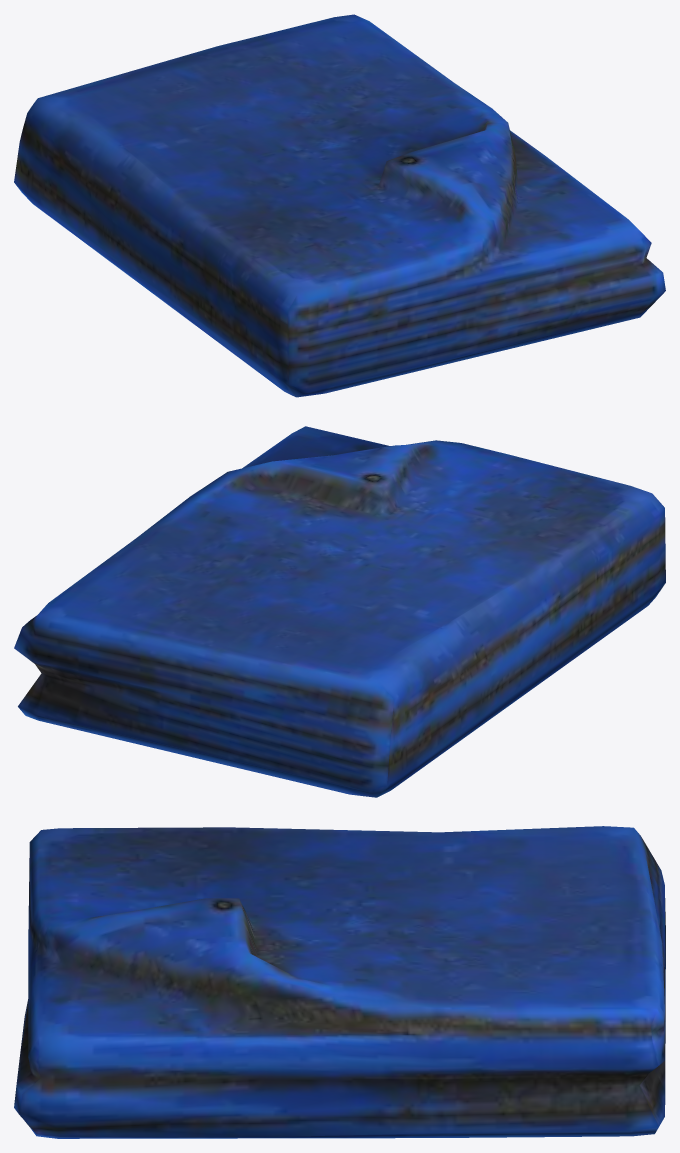
The model's file is tarp.worldmodel.glb.
3 renders of one model, top to bottom at view 1: azimuth 30°, elevation 25°; view 2: azimuth 150°, elevation 25°; view 3: azimuth 270°, elevation 25°, orthographic. The views are drawn at different scales.
Parts seen in each view (by area): view 1: tarp_LOD0; view 2: tarp_LOD0; view 3: tarp_LOD0.
Boxes of the visible parts, x1,y1,x2,y2 form: tarp_LOD0: [14, 14, 665, 397]; tarp_LOD0: [14, 426, 665, 797]; tarp_LOD0: [14, 826, 665, 1138].
Bounding box in the file's own units: 0.3394 × 0.1186 × 0.4521.
Materials: 1 (1 with a texture image).
